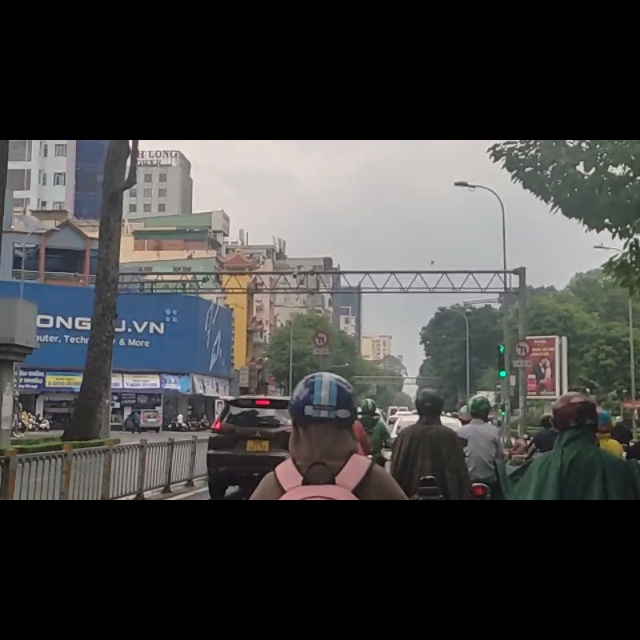bien_cam: (313, 339, 332, 371), (515, 356, 533, 385)
